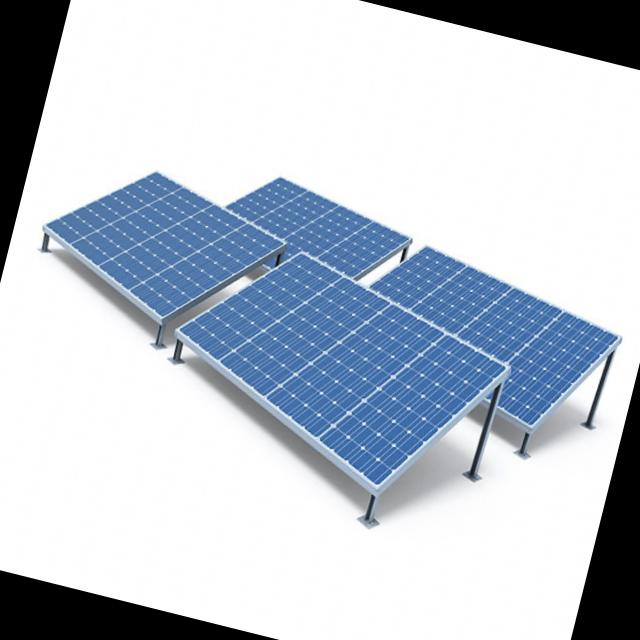no faulty: (172, 255, 505, 483), (370, 251, 618, 426), (50, 174, 282, 317), (230, 172, 401, 267)
